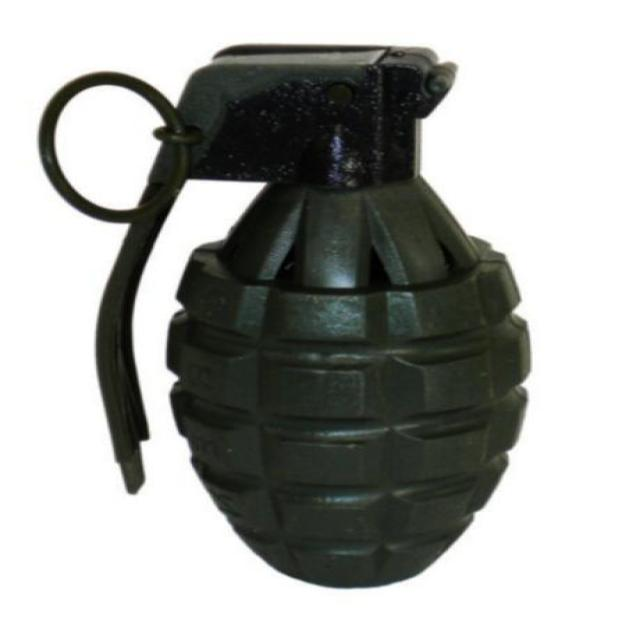grenade: (39, 43, 533, 590)
